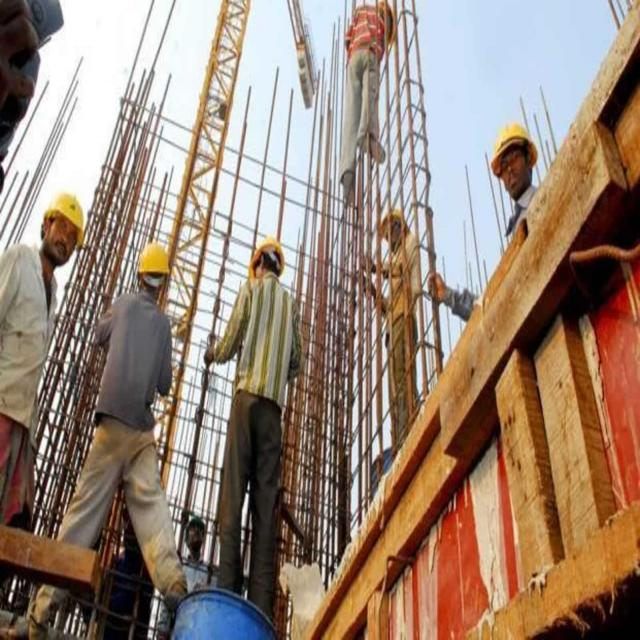Safety-Helmet: (37, 180, 90, 246), (487, 114, 539, 168), (134, 232, 174, 284), (379, 196, 420, 244), (247, 228, 288, 272)
